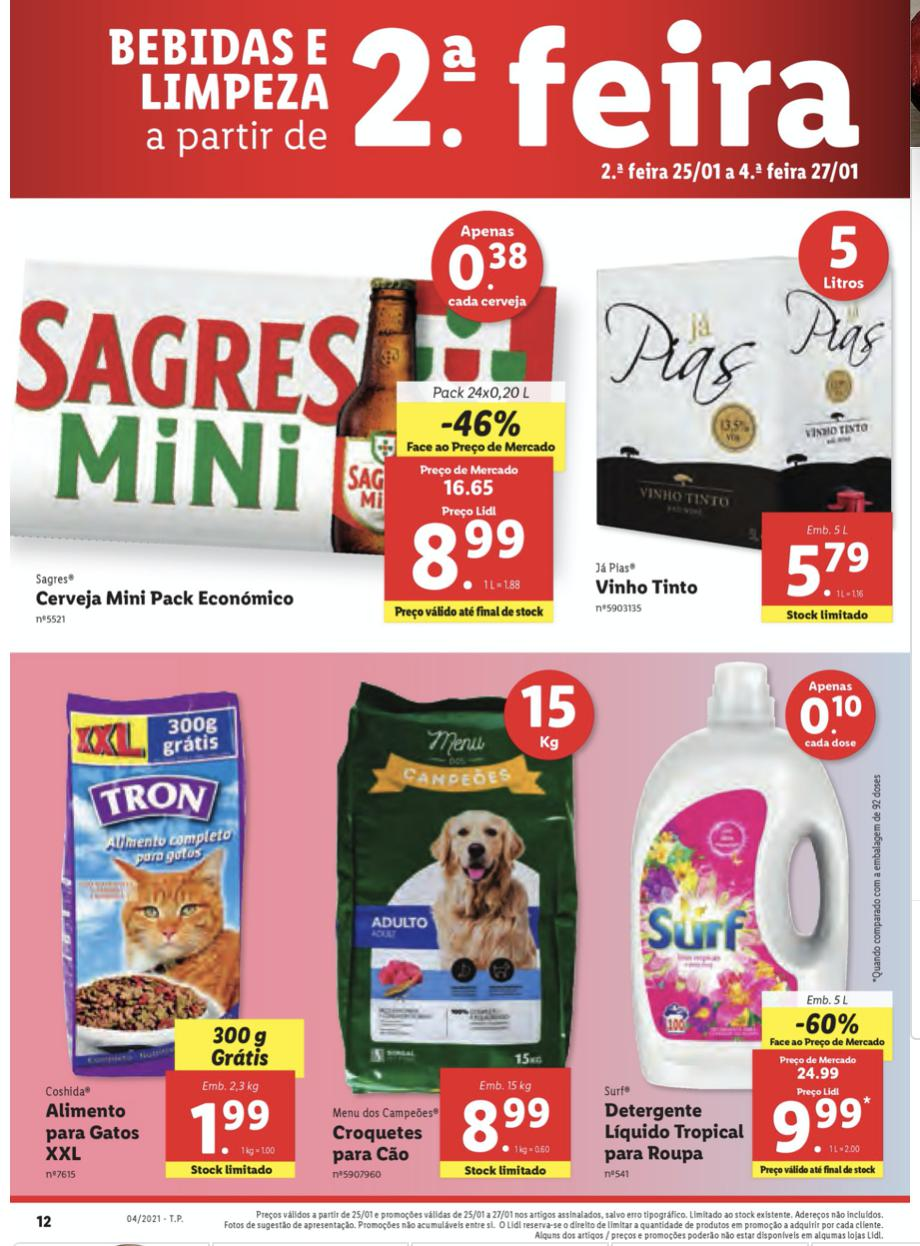name: (604, 1096, 752, 1167), (34, 1096, 143, 1165), (28, 584, 300, 611), (328, 1121, 429, 1167), (591, 571, 703, 601)
price: (404, 504, 541, 602), (781, 521, 880, 610), (457, 1076, 557, 1164), (771, 1084, 878, 1162), (183, 1078, 278, 1162)
product: (3, 208, 578, 634), (603, 662, 895, 1188), (321, 662, 603, 1184), (23, 676, 303, 1196), (591, 213, 892, 641)
promotion: (437, 405, 526, 442), (795, 1008, 864, 1038)
